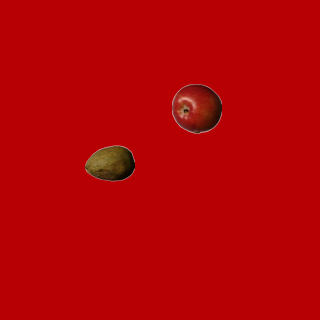Apple Braeburn: (171, 83, 221, 133)
Papaya: (84, 138, 134, 188)
